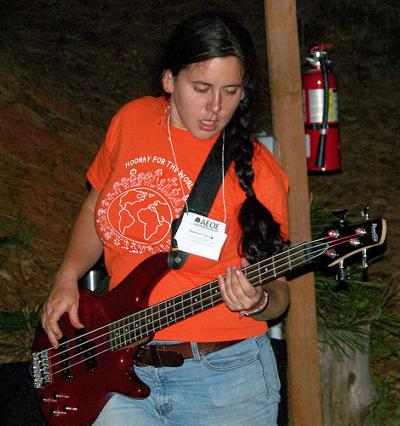person: (40, 22, 290, 426)
